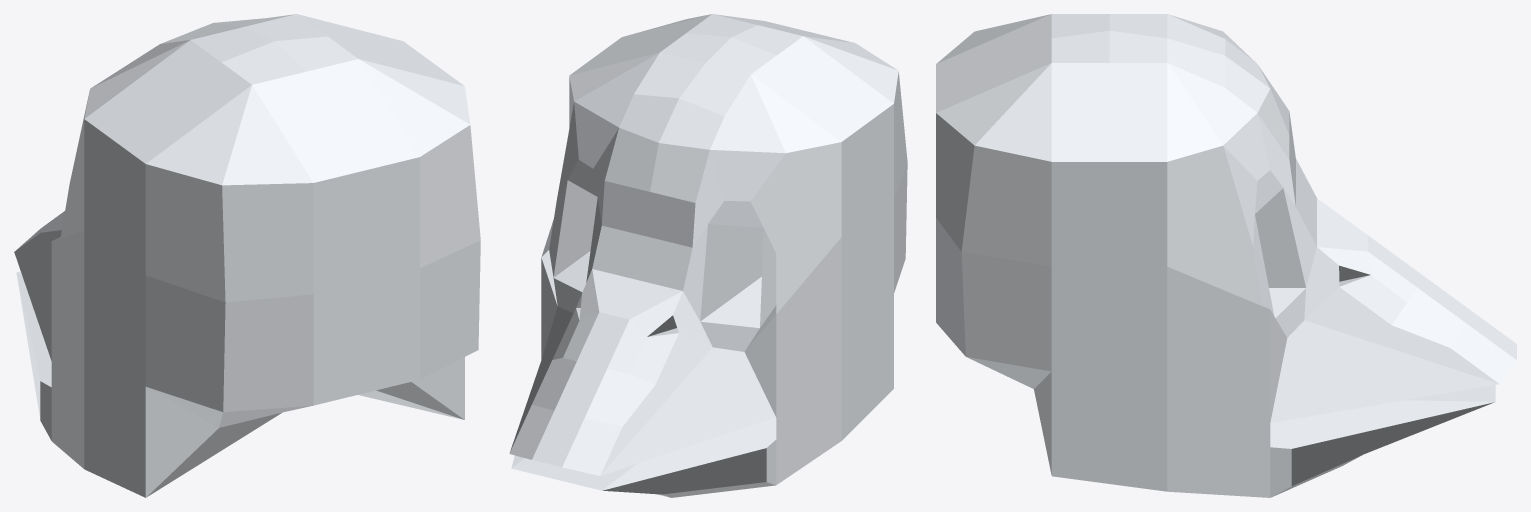
The model's file is fgr_fur_birdskull.fbx.
3 views of the same model, side by side, from view 1: azimuth 30°, elevation 25°; view 2: azimuth 150°, elevation 25°; view 3: azimuth 270°, elevation 25° (orthographic). The views are drawn at different scales.
Parts seen in each view (by area): view 1: fgr_fur_birdskull; view 2: fgr_fur_birdskull; view 3: fgr_fur_birdskull.
Part boxes in pixels (bbox=[...]): fgr_fur_birdskull: bbox=[14, 14, 480, 497]; fgr_fur_birdskull: bbox=[509, 14, 907, 497]; fgr_fur_birdskull: bbox=[936, 14, 1516, 497].
Bounding box in the file's own units: 510 × 666 × 854.
1 material, 1 textured.
